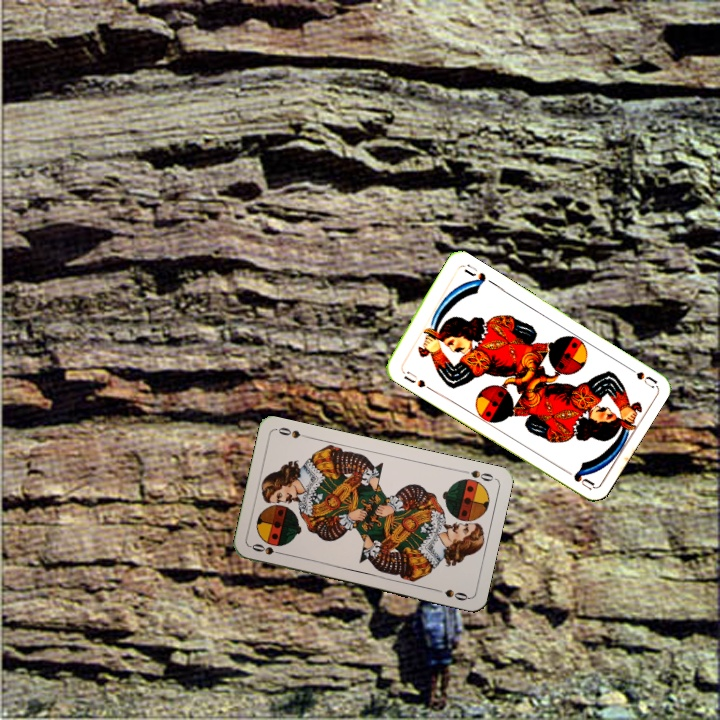SO: (247, 540, 287, 558), (457, 466, 496, 484)
SU: (620, 361, 658, 390), (397, 363, 428, 390)
